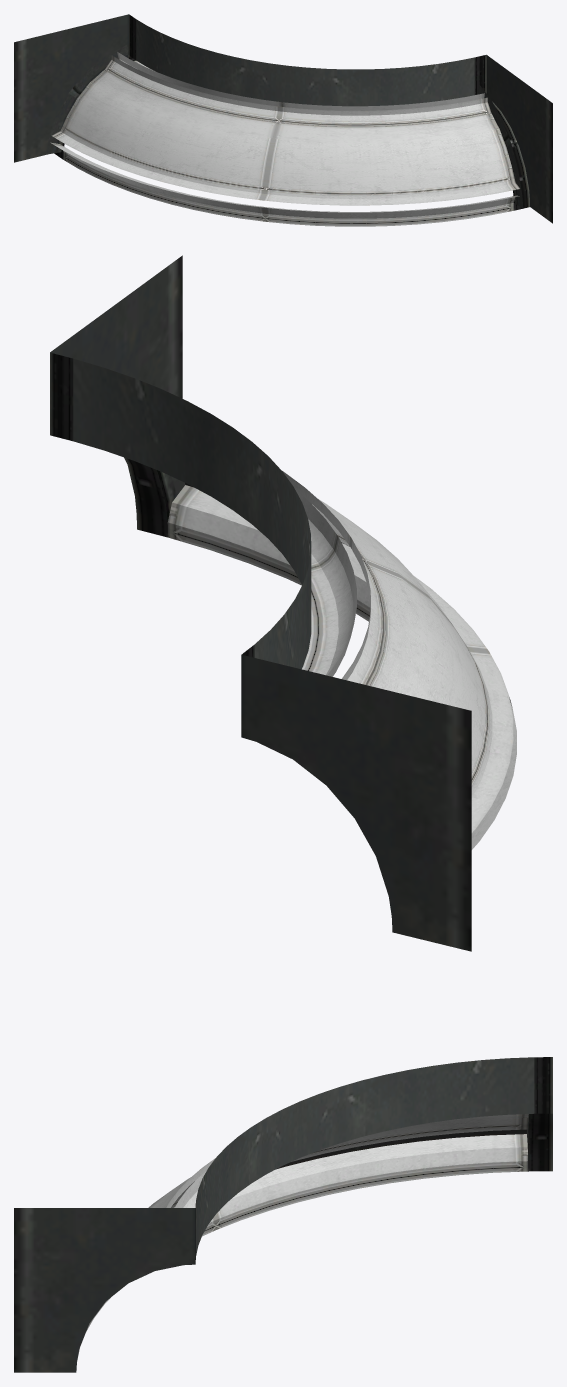
File: Neon_Wall_6x4_Bend_Top.FBX
3 renders of one model, top to bottom at view 1: azimuth 30°, elevation 25°; view 2: azimuth 150°, elevation 25°; view 3: azimuth 270°, elevation 25°, orthographic. The views are drawn at different scales.
Parts seen in each view (by area): view 1: Neon_Wall_6x4_Bend_Top; view 2: Neon_Wall_6x4_Bend_Top; view 3: Neon_Wall_6x4_Bend_Top.
Boxes of the visible parts, x1,y1,x2,y2 form: Neon_Wall_6x4_Bend_Top: (14, 14, 552, 226); Neon_Wall_6x4_Bend_Top: (50, 255, 516, 951); Neon_Wall_6x4_Bend_Top: (14, 1057, 552, 1372).
Bounding box in the file's own units: 4.32 × 1.45 × 4.32.
